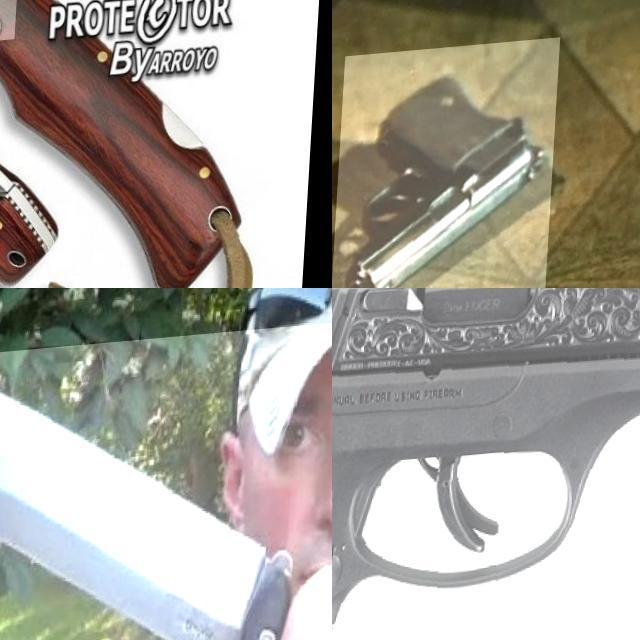-: (0, 318, 332, 640), (0, 0, 150, 129)
gun-knife-thesis - v11 Yolov5 augmented: (332, 288, 640, 640), (334, 45, 562, 288)
